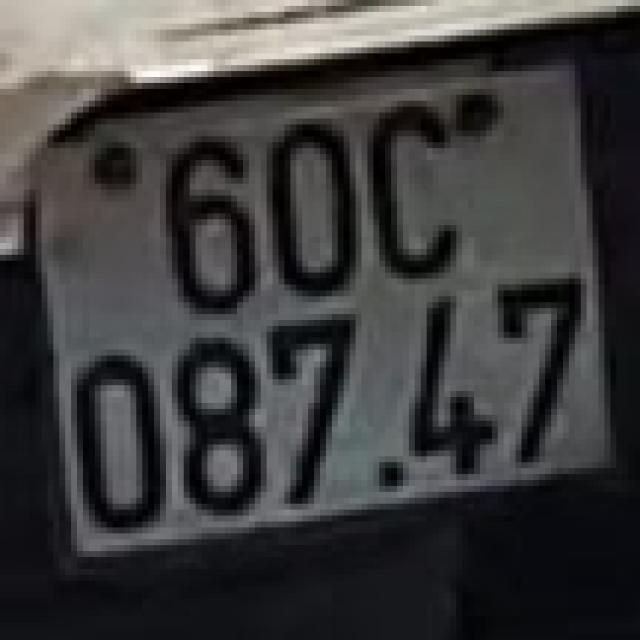0: (266, 121, 362, 300), (73, 352, 167, 530)
4: (408, 292, 496, 484)
6: (156, 129, 262, 320)
7: (493, 273, 586, 469), (266, 312, 356, 508)
8: (175, 337, 266, 520)
C: (365, 96, 459, 290)
